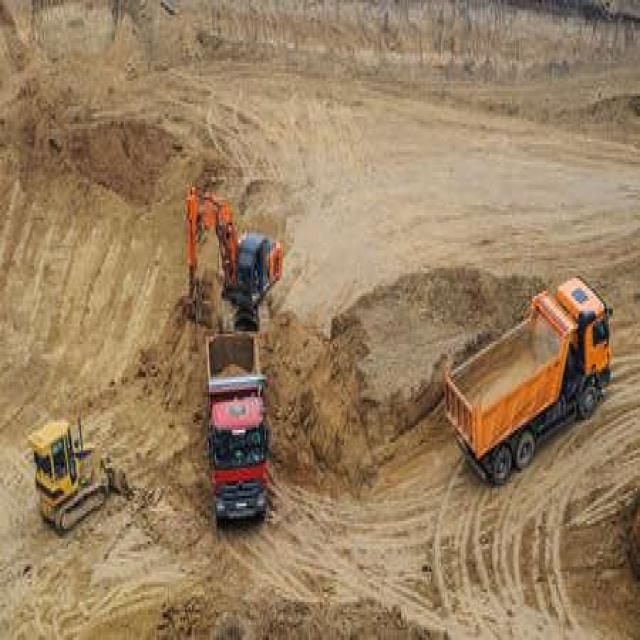Camion volquete: (437, 266, 617, 490), (199, 326, 276, 534)
Excavadora: (182, 182, 283, 331)
pala cargadora: (31, 416, 134, 532)
